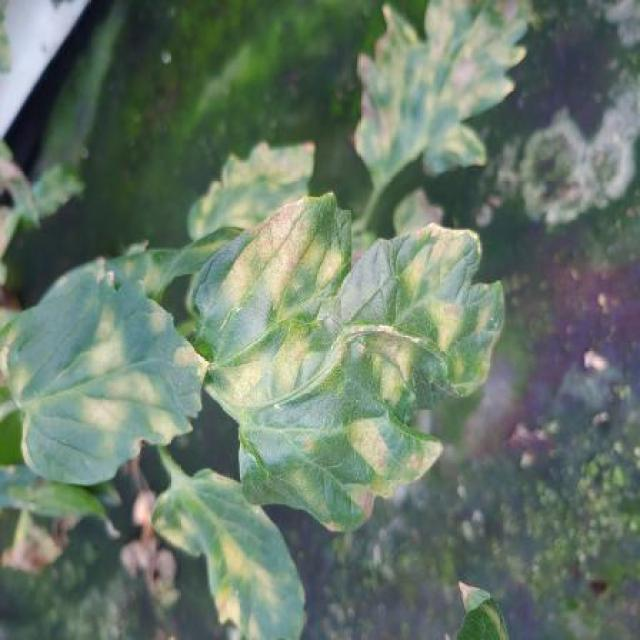Leaf Mold: (186, 192, 505, 534), (0, 257, 210, 486), (352, 0, 528, 184), (150, 465, 305, 640)
